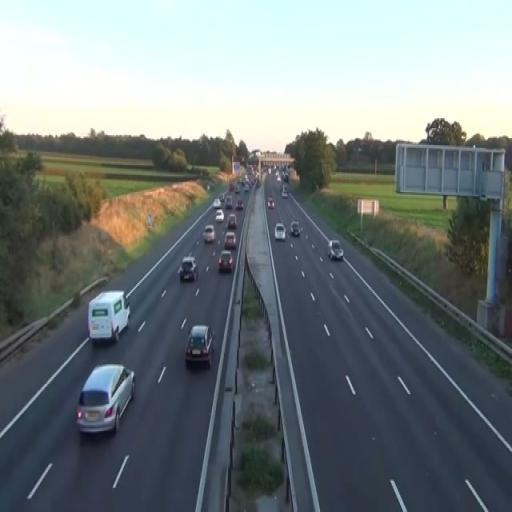Car: (76, 363, 136, 436), (185, 324, 215, 368), (178, 256, 199, 283), (218, 250, 234, 274), (328, 240, 344, 261), (224, 232, 237, 250), (204, 224, 215, 244), (275, 223, 286, 242), (290, 221, 300, 236), (215, 210, 224, 222), (235, 200, 244, 210)
Truck: (88, 290, 130, 344)
